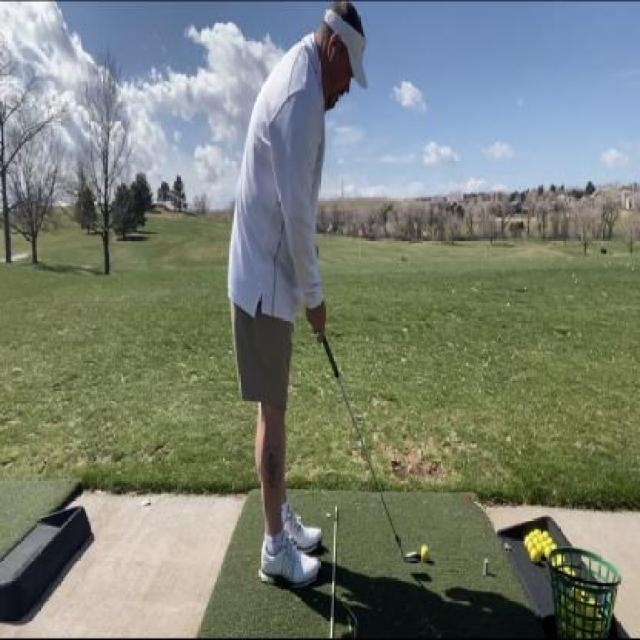club head: (394, 530, 421, 568)
